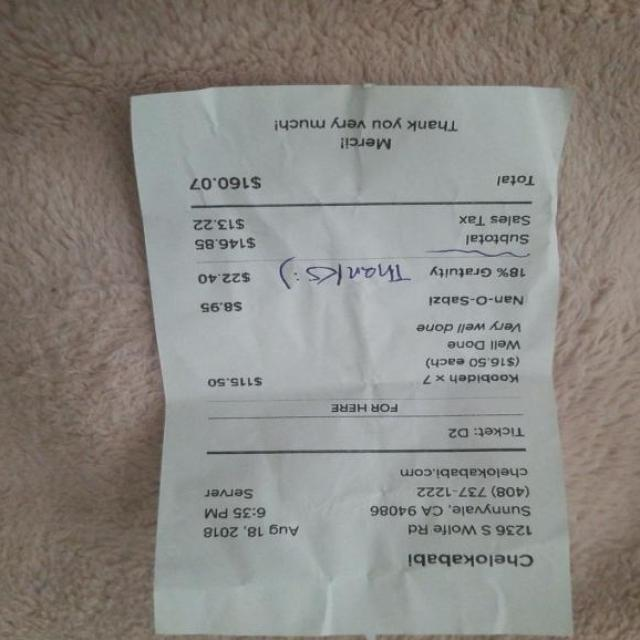kertas: (132, 85, 571, 635)
